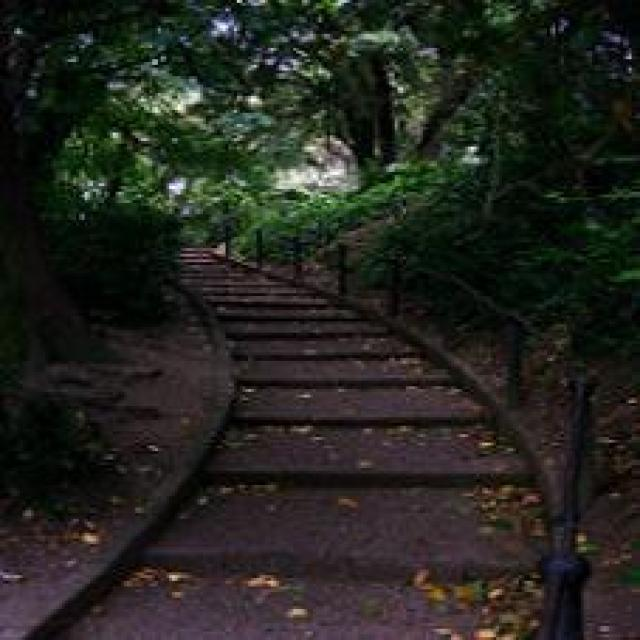upstair: (187, 280, 531, 582)
